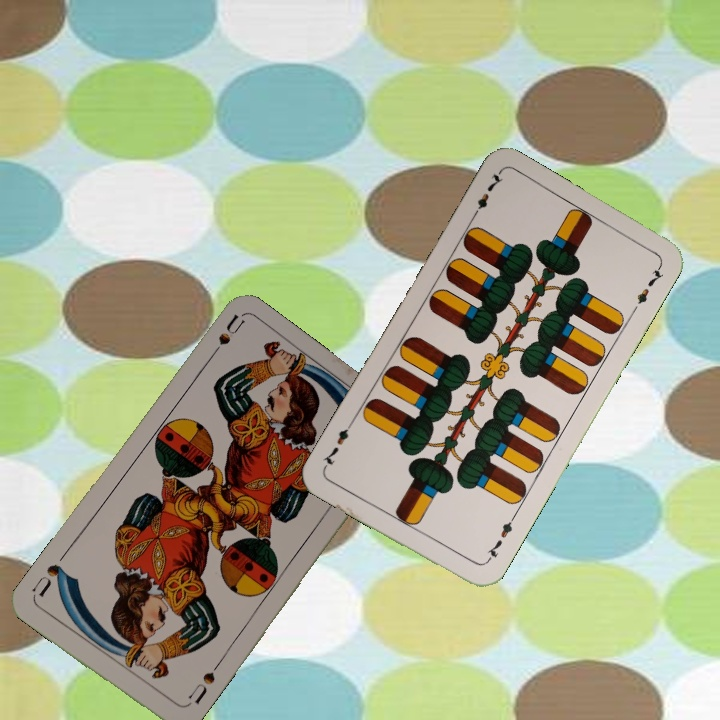E7: (467, 168, 506, 222), (481, 512, 518, 566)
SU: (203, 311, 247, 365), (184, 667, 218, 707)
